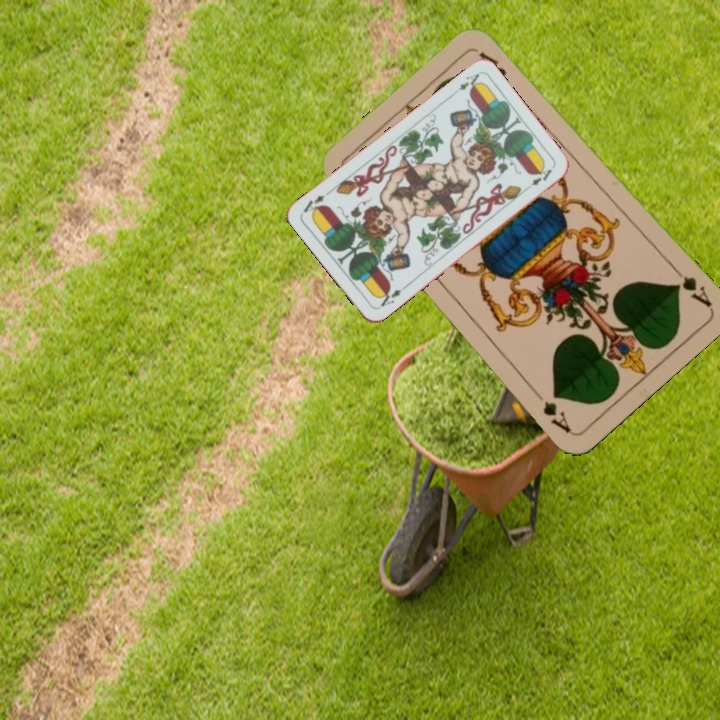EA: (448, 69, 483, 99), (373, 285, 403, 312)
GA: (668, 262, 715, 310)
